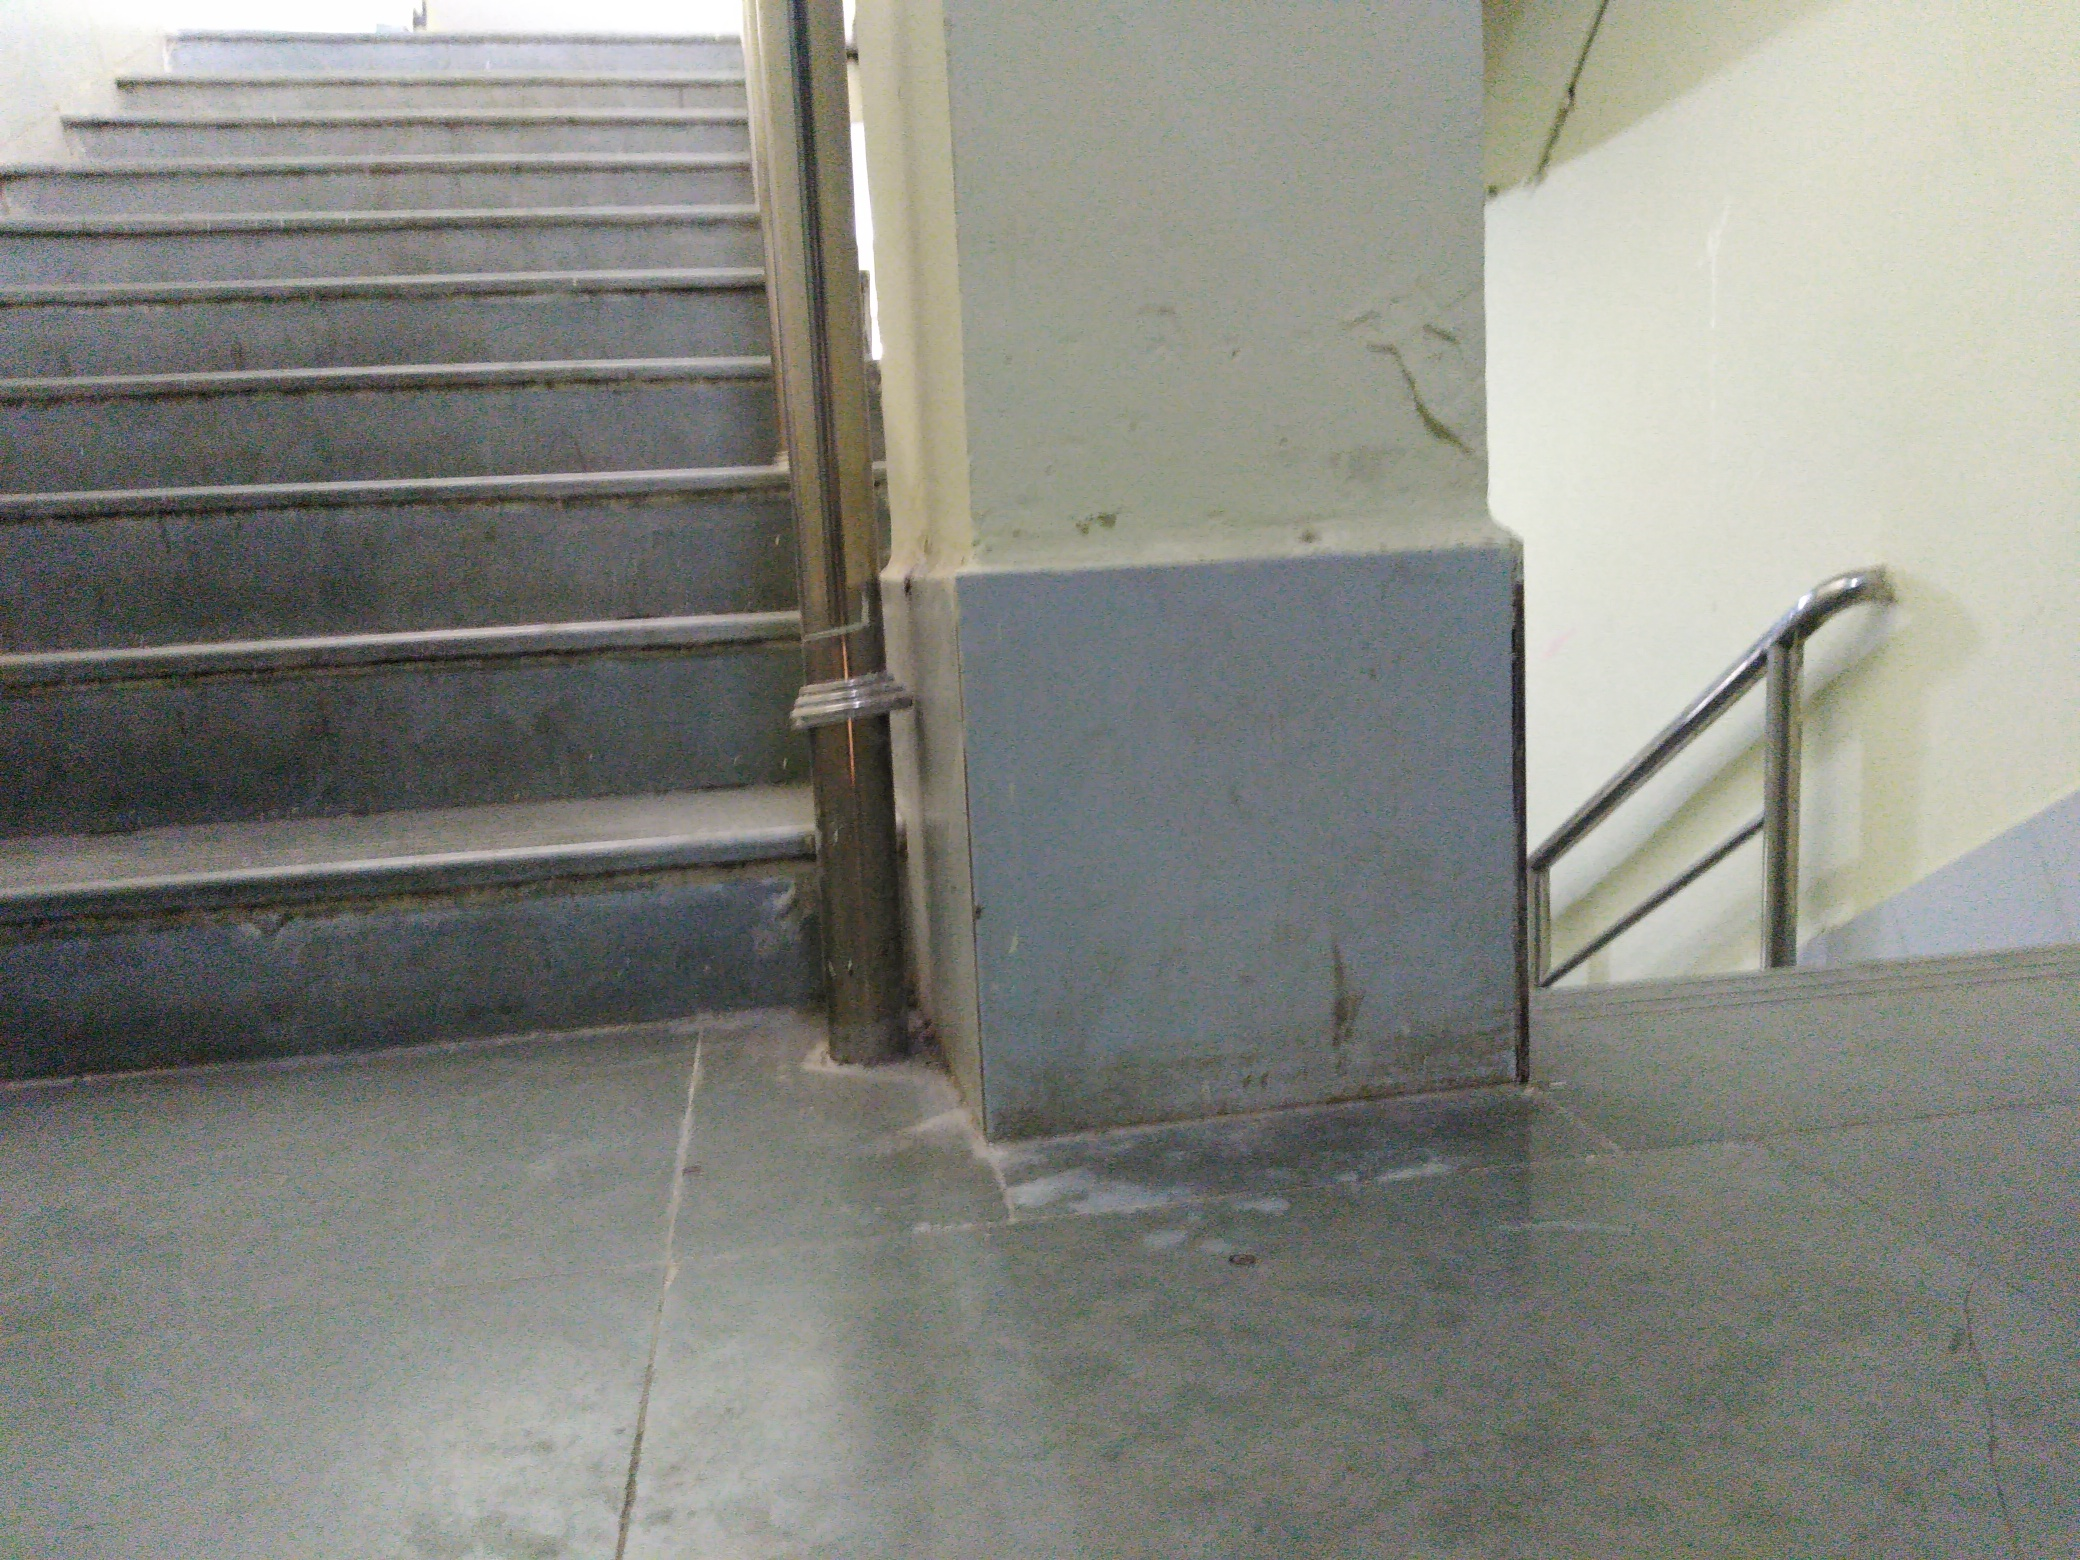stairs_up: (11, 16, 744, 1073)
